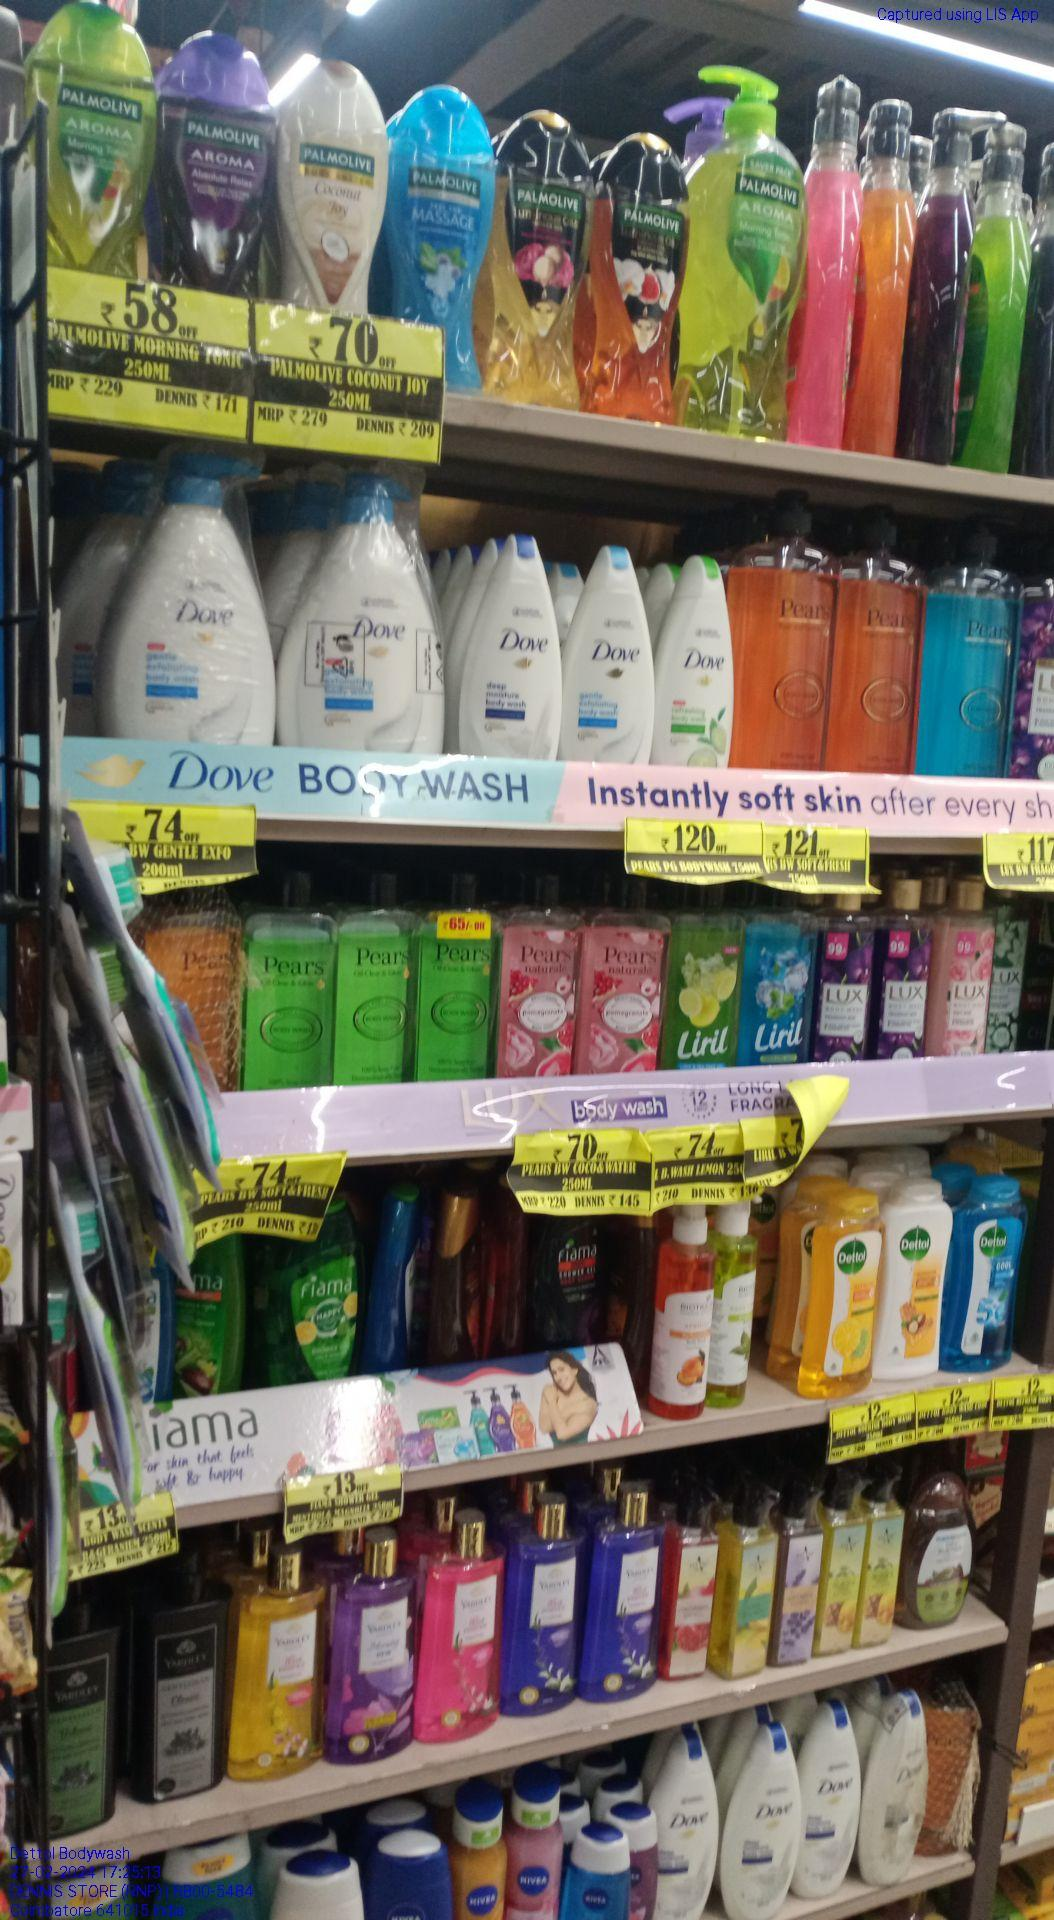Dettol_Bodywash_Cool: (955, 1181, 1020, 1383)
Dettol_Bodywash_Refresh: (813, 1191, 877, 1398)
Dettol_Nourish_Body_Wash_250ML: (887, 1179, 945, 1386)
Dove_Deep_Moisture_Body_Wash_250ML: (471, 531, 559, 764), (732, 1720, 801, 1920), (657, 1741, 719, 1920), (801, 1702, 858, 1897)
Dove_Gentle_Exfoliating_Body_Wash_250ML: (565, 541, 652, 769)
Dove_Refreshing_Body_Wash_250ML: (665, 540, 740, 773)
Liril_Cooling_Mint_Body_Wash_250ML: (745, 885, 810, 1069)
Liril_Lime_and_Tea_Tree_Oil_Body_Wash_250ML: (668, 887, 735, 1072)
Lux_Black_Orchid_Scent_and_Juniper_Oil_Body_Wash_245ML: (880, 872, 931, 1061), (818, 887, 870, 1068)
Lux_Body_Wash_Skin_Detox_Freesia_Scent_and_Alove_Vera_245ML: (987, 880, 1032, 1043)
Palmolive_Aroma_Moments_Feel_The_Massage_Shower_Gel_250ML: (395, 84, 489, 387)
Palmolive_Aroma_Morning_Tonic_Shower_Gel_250ML: (43, 0, 145, 278)
Palmolive_Aroma_Relax_250ML: (164, 31, 270, 294)
Palmolive_Coconut_Joy_Exfoliating_Body_Wash_250ML: (282, 60, 391, 314)
Palmolive_Luminous_Oils_Invigorating_Macadamia_Oil_With_Peony_250ML: (500, 104, 588, 419)
Palmolive_Luminous_Oils_With_White_Orchid_Shower_Gel_250ML: (597, 130, 685, 418)
Pears_Pure_Glycerin_and_Lemon_Flower_Extracts_Body_Wash_250ML: (248, 873, 331, 1090), (340, 870, 413, 1094)
